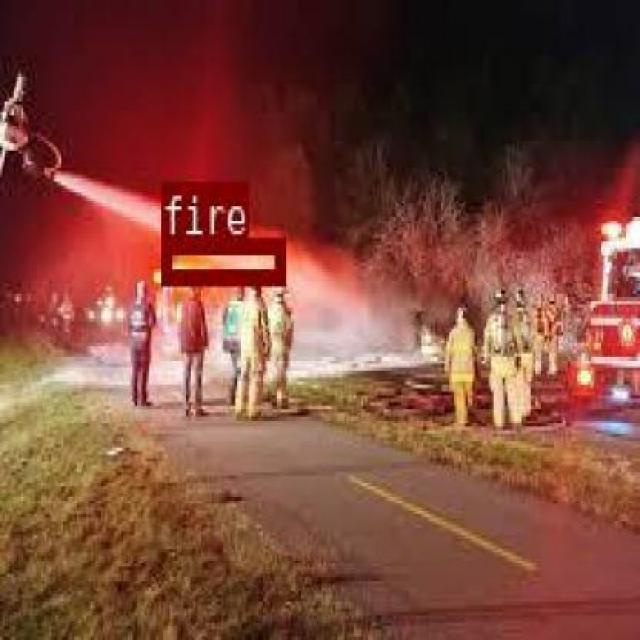Fire: (125, 48, 222, 259)
